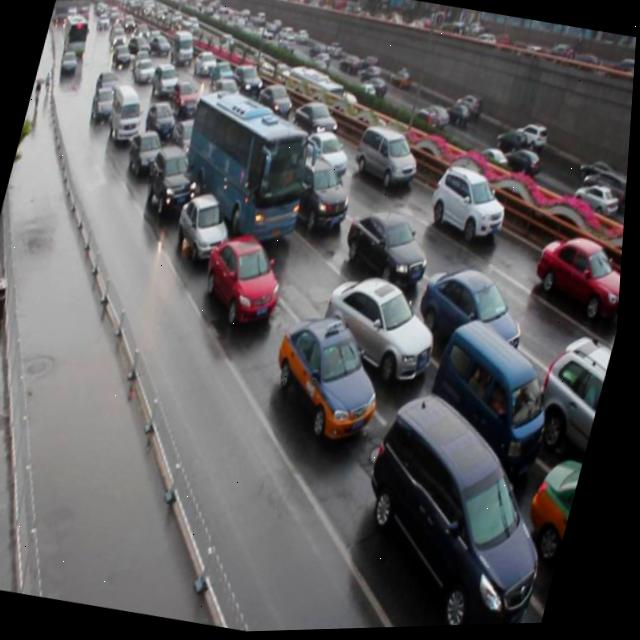car: (264, 308, 401, 446), (316, 269, 453, 390), (413, 262, 541, 368), (530, 332, 620, 466), (196, 228, 296, 331), (529, 229, 627, 326), (341, 204, 441, 293), (521, 454, 590, 575), (424, 162, 518, 250), (288, 155, 361, 237), (173, 188, 243, 263), (145, 141, 206, 216), (296, 128, 358, 182), (290, 97, 343, 147), (127, 125, 169, 178), (255, 80, 298, 122), (168, 117, 206, 162), (144, 99, 182, 142)
truck: (342, 384, 584, 631), (420, 312, 576, 475), (351, 121, 429, 196)
van: (170, 82, 329, 252)
